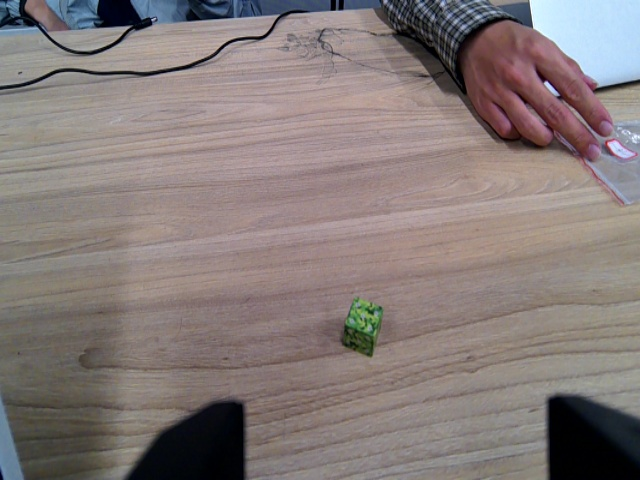grass: (340, 296, 385, 359)
